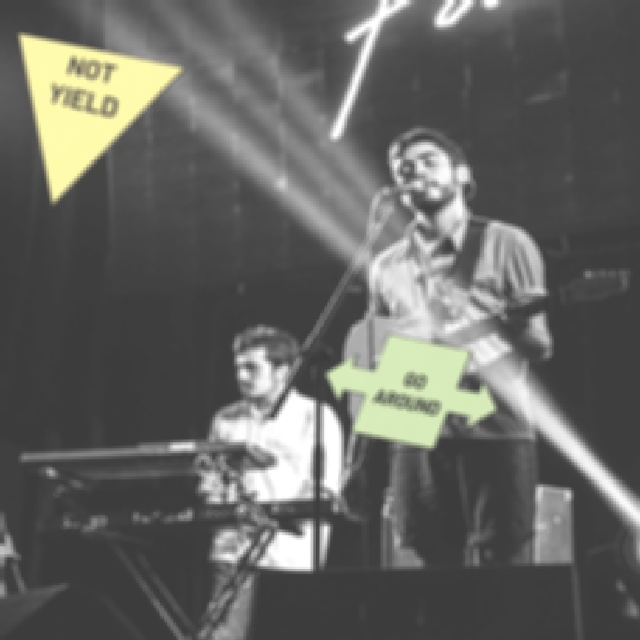GO_AROUND: (323, 331, 497, 449)
NOT_YIELD: (16, 31, 185, 205)
